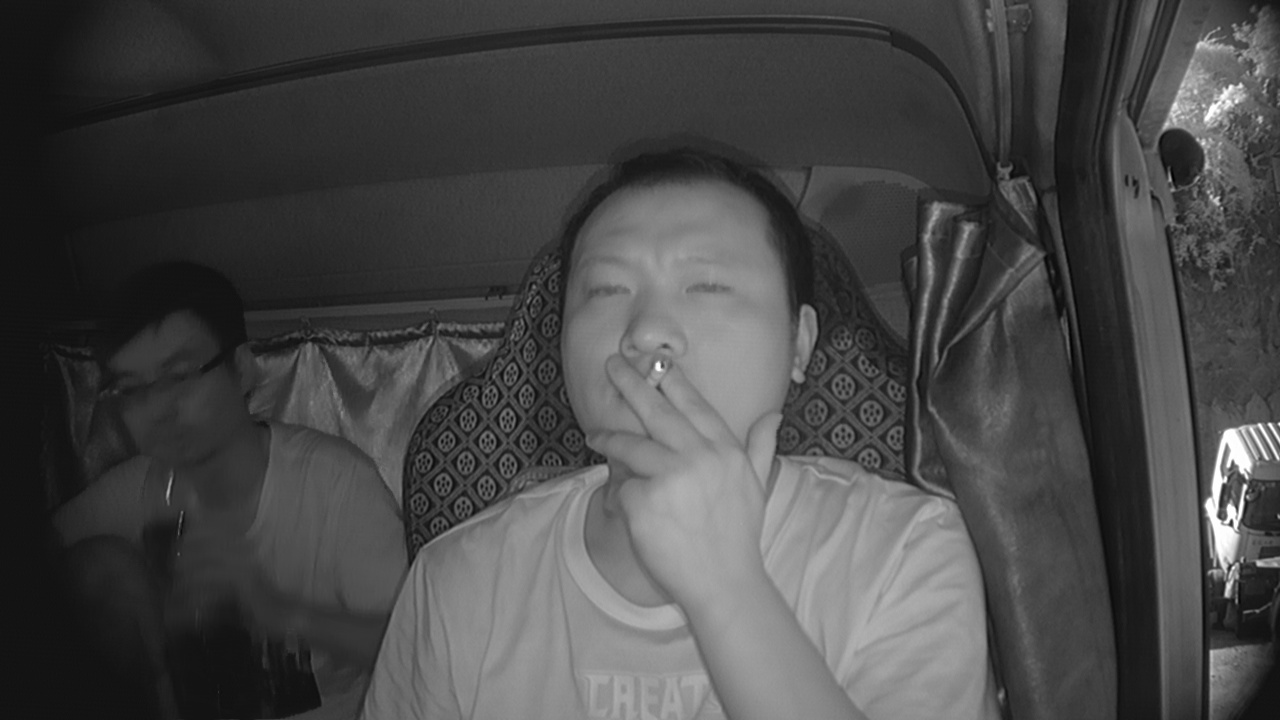hand: (593, 347, 786, 576)
